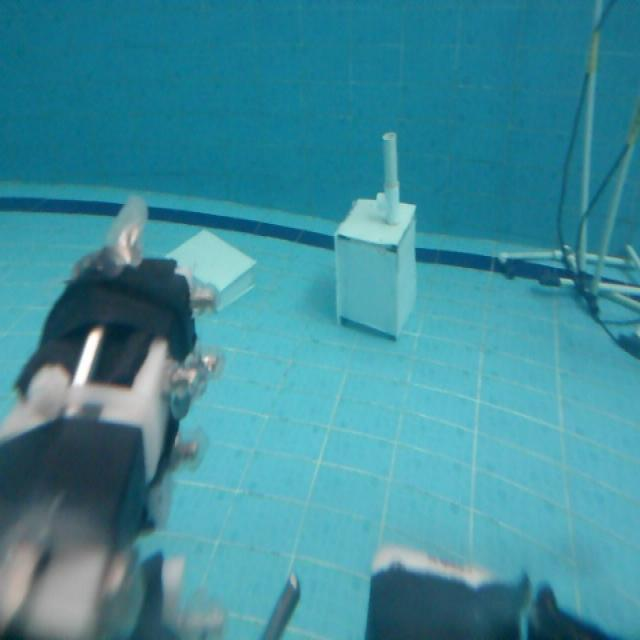Cube: (327, 191, 427, 346)
Cuboid: (163, 224, 257, 312)
